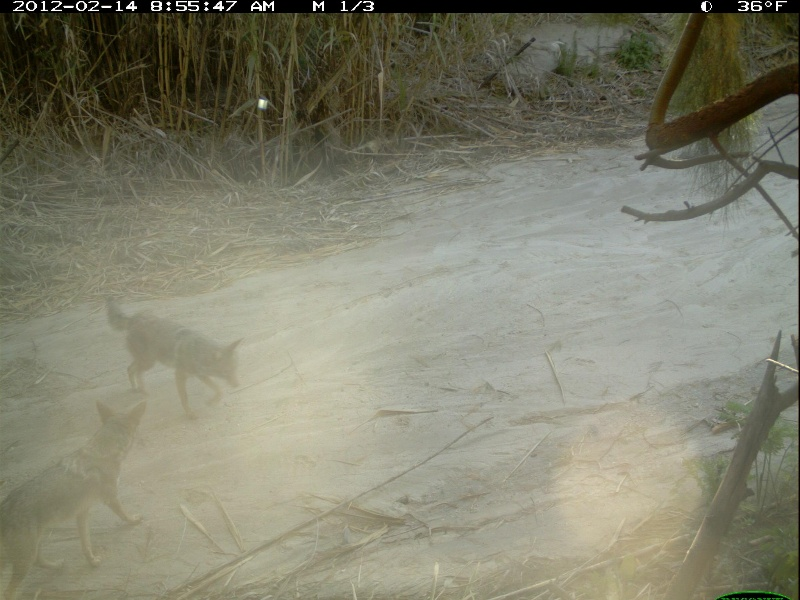coyote: (5, 394, 152, 600), (99, 287, 243, 419)
